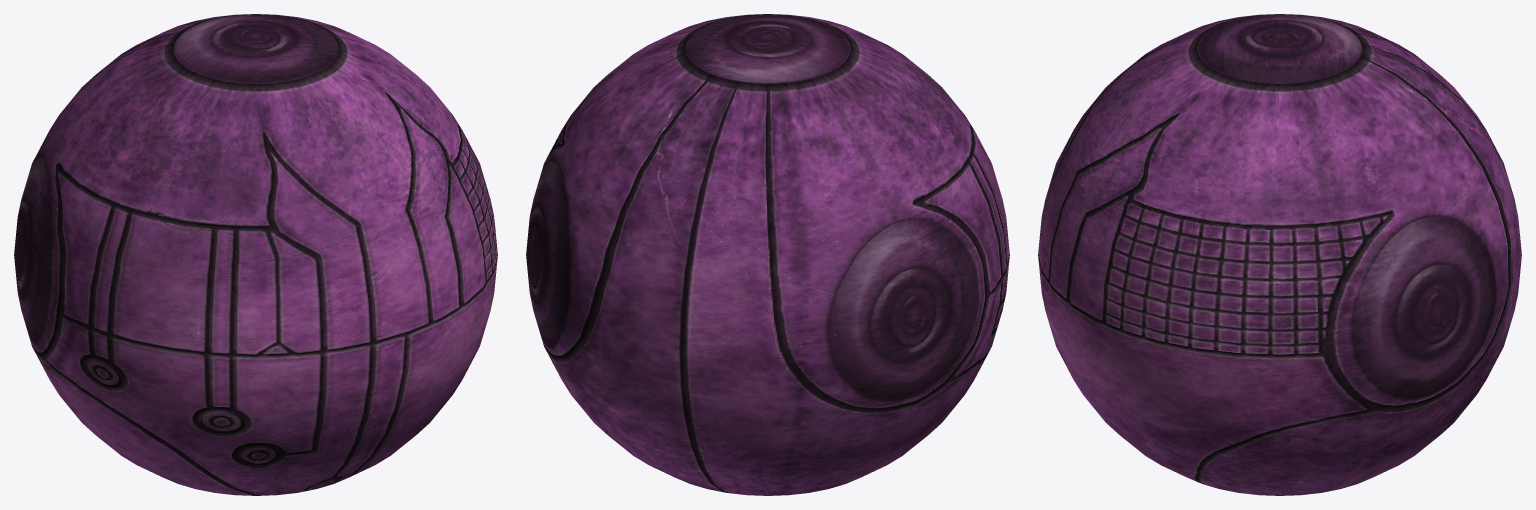
File: ExtFoam.fbx
The picture shows the model from 3 angles, left to right: view 1: azimuth 30°, elevation 25°; view 2: azimuth 150°, elevation 25°; view 3: azimuth 270°, elevation 25°; orthographic projection.
Visible parts, largest first — view 1: Apple_Of_Eden:Mesh; view 2: Apple_Of_Eden:Mesh; view 3: Apple_Of_Eden:Mesh.
Part boxes in pixels (x1,y1,x2,y2): Apple_Of_Eden:Mesh: [14, 14, 497, 495]; Apple_Of_Eden:Mesh: [526, 14, 1009, 495]; Apple_Of_Eden:Mesh: [1038, 14, 1521, 495].
Bounding box in the file's own units: 0.5321 × 0.5321 × 0.5321.
